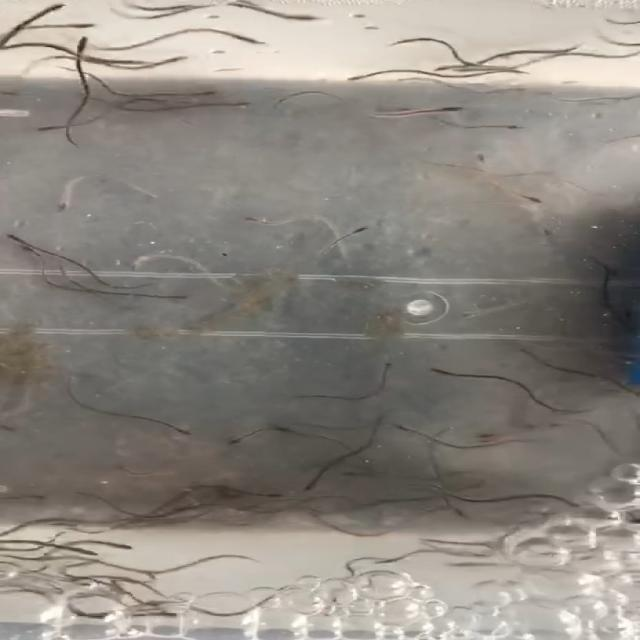active_glass_eel: (423, 99, 481, 116), (31, 118, 79, 134), (212, 98, 259, 114), (508, 189, 560, 203), (159, 424, 192, 444), (37, 197, 78, 213), (368, 556, 416, 569), (96, 535, 135, 551), (434, 500, 465, 520), (168, 599, 202, 617), (455, 558, 493, 574), (26, 0, 80, 11), (186, 84, 223, 100), (162, 285, 196, 302), (285, 10, 327, 23), (148, 607, 182, 623), (145, 559, 179, 575), (493, 121, 529, 136), (232, 33, 272, 46), (338, 72, 381, 84), (240, 212, 272, 228), (250, 486, 286, 500), (516, 343, 540, 363), (72, 545, 104, 560), (389, 419, 417, 436), (158, 54, 197, 66), (435, 58, 464, 74), (294, 478, 327, 492), (460, 304, 483, 324), (12, 247, 42, 262), (124, 260, 156, 274), (64, 19, 104, 30), (377, 360, 401, 378), (16, 490, 49, 503), (68, 34, 94, 50), (273, 422, 302, 436), (472, 430, 499, 444), (534, 220, 556, 237), (393, 39, 426, 50), (0, 230, 22, 246), (472, 153, 499, 166), (423, 365, 450, 378), (226, 433, 252, 446), (343, 224, 369, 236), (458, 64, 484, 75)
